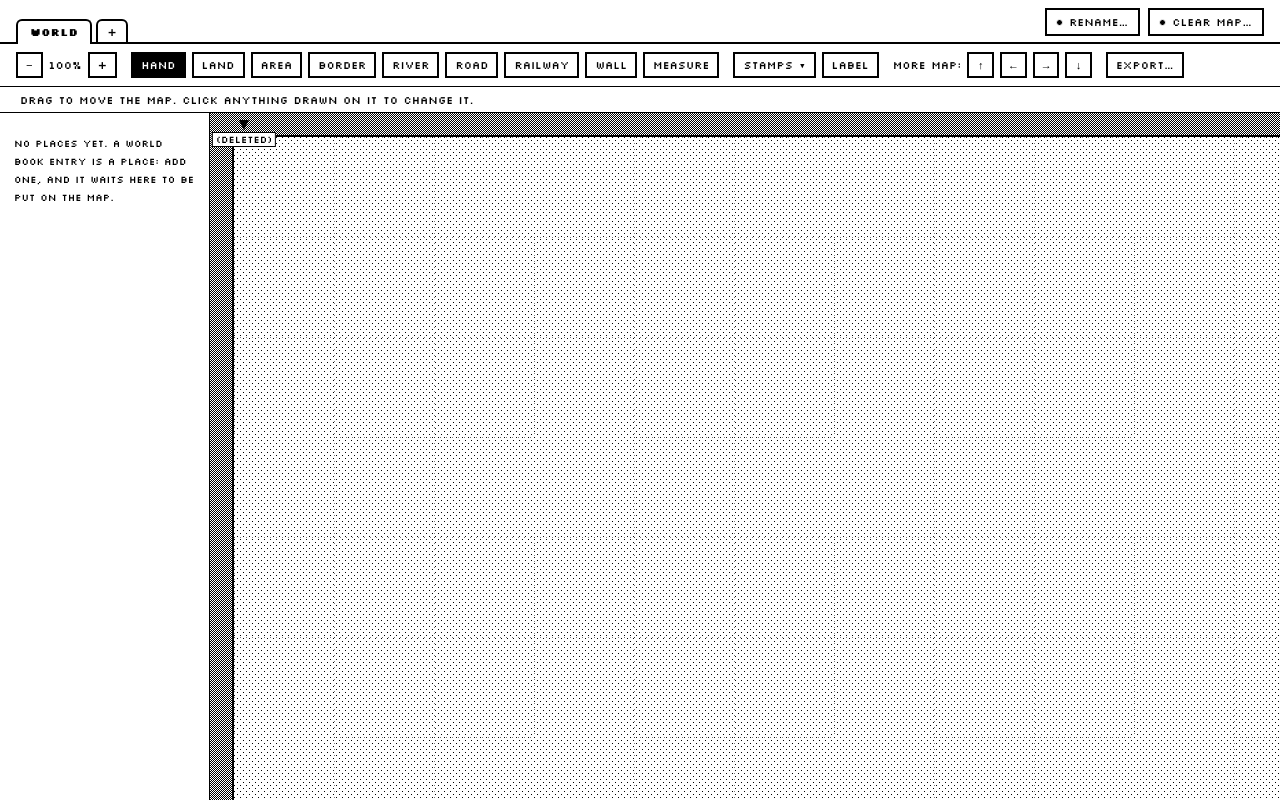
Test: Export Map Image › says why, rather than doing nothing, when nothing is drawn
Click the button "Export…". click: (1145, 65)
box: 1106,52 -> 1184,78
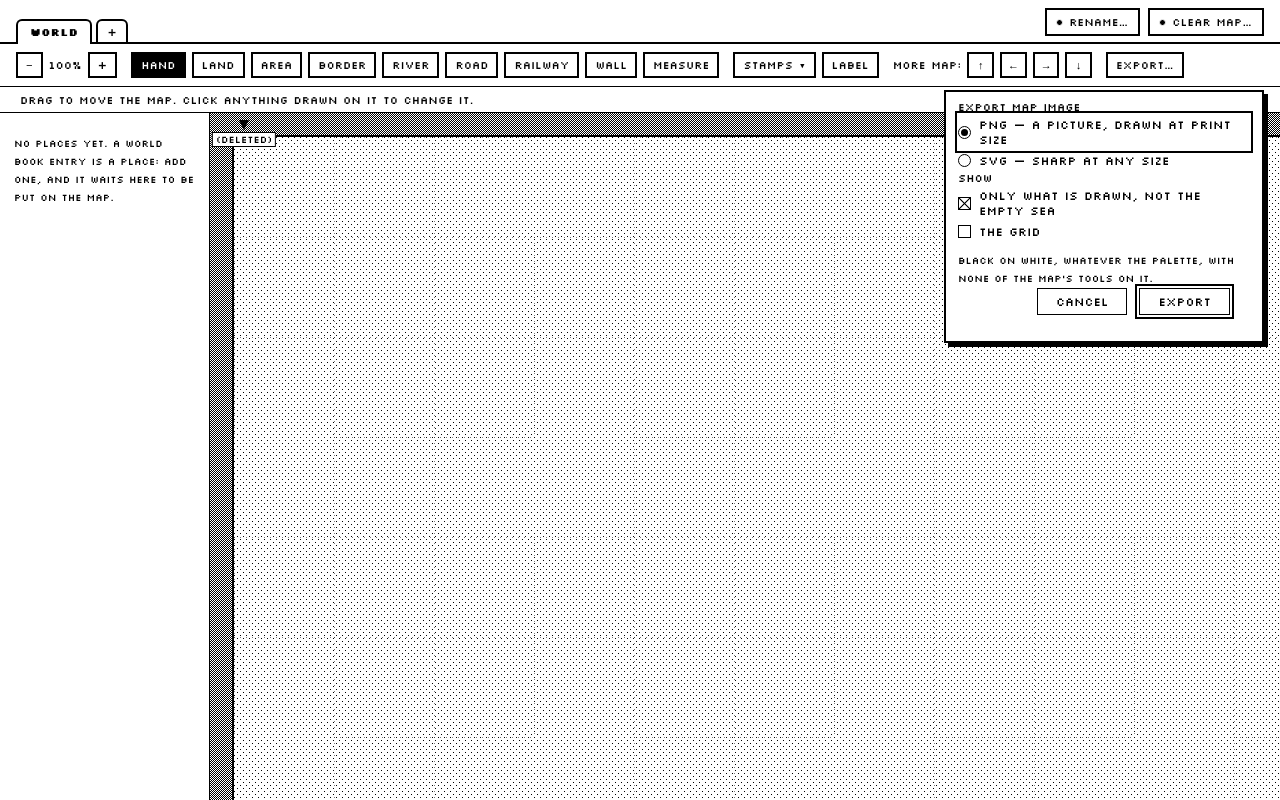
Click the button with class "default". click: (1185, 302)
box: 1140,288 -> 1230,315
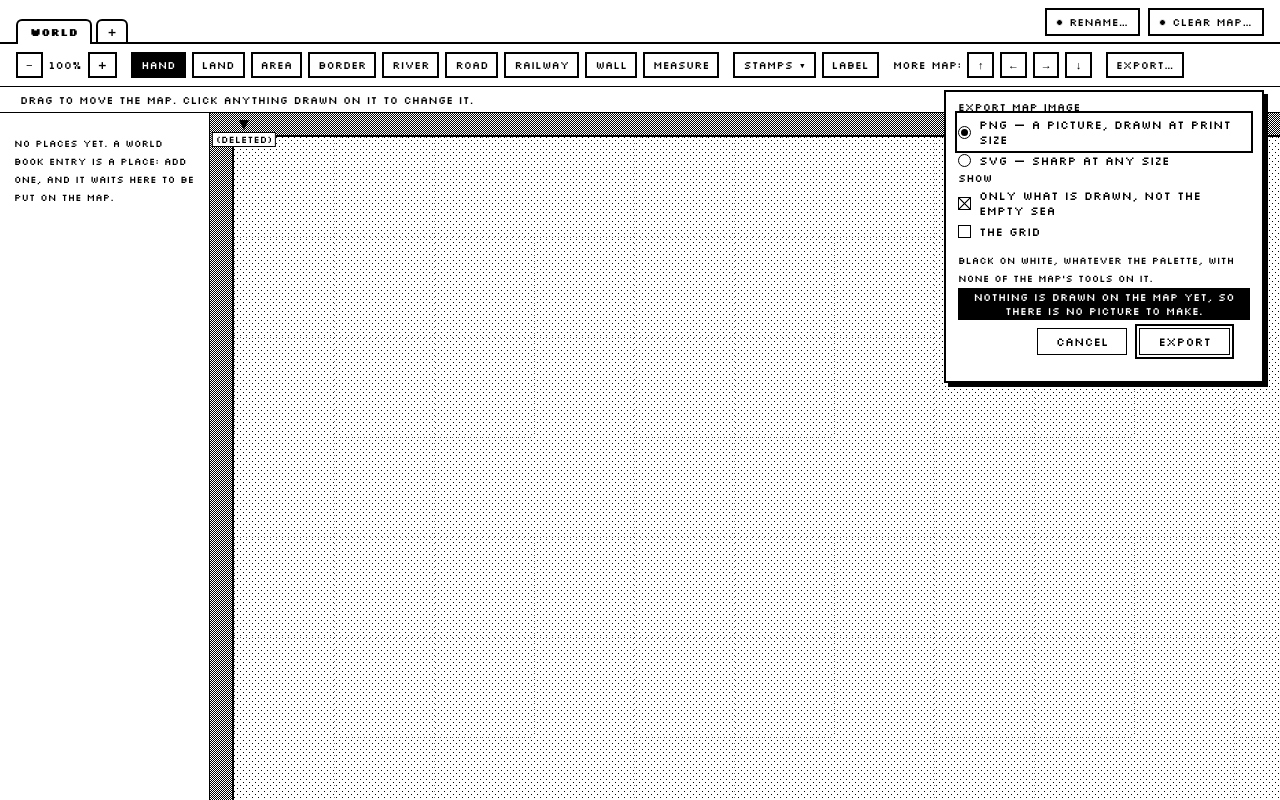
Now the message shows "Nothing is drawn on the map yet", box 973,290 -> 1235,318
